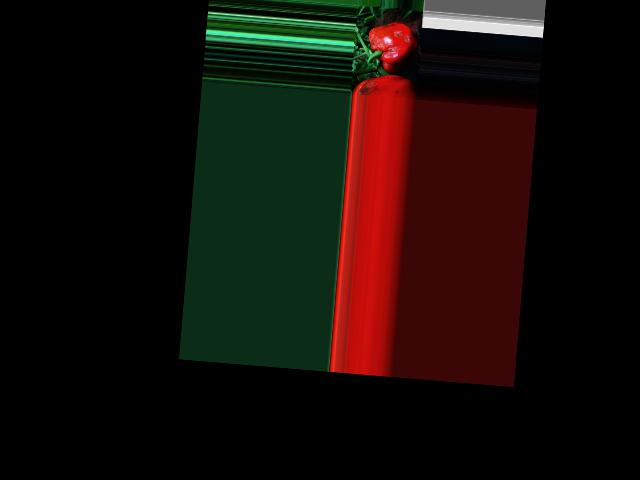bell_pepper: (361, 21, 423, 74)
